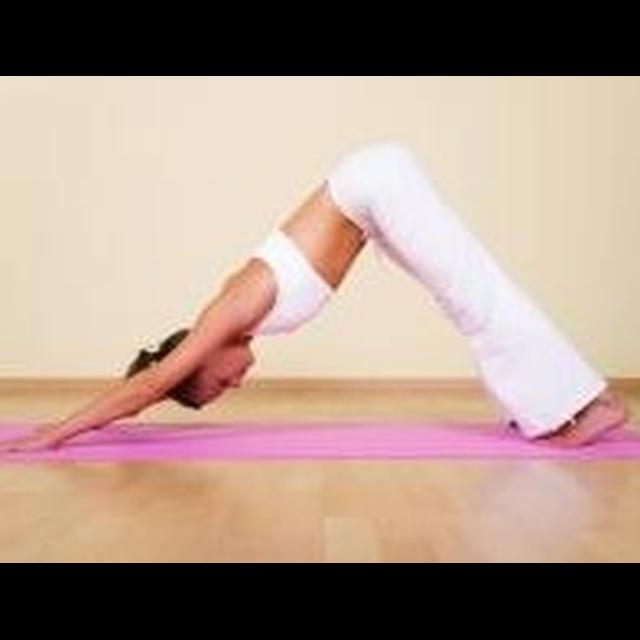Downward-Facing_Dog: (4, 138, 638, 467)
